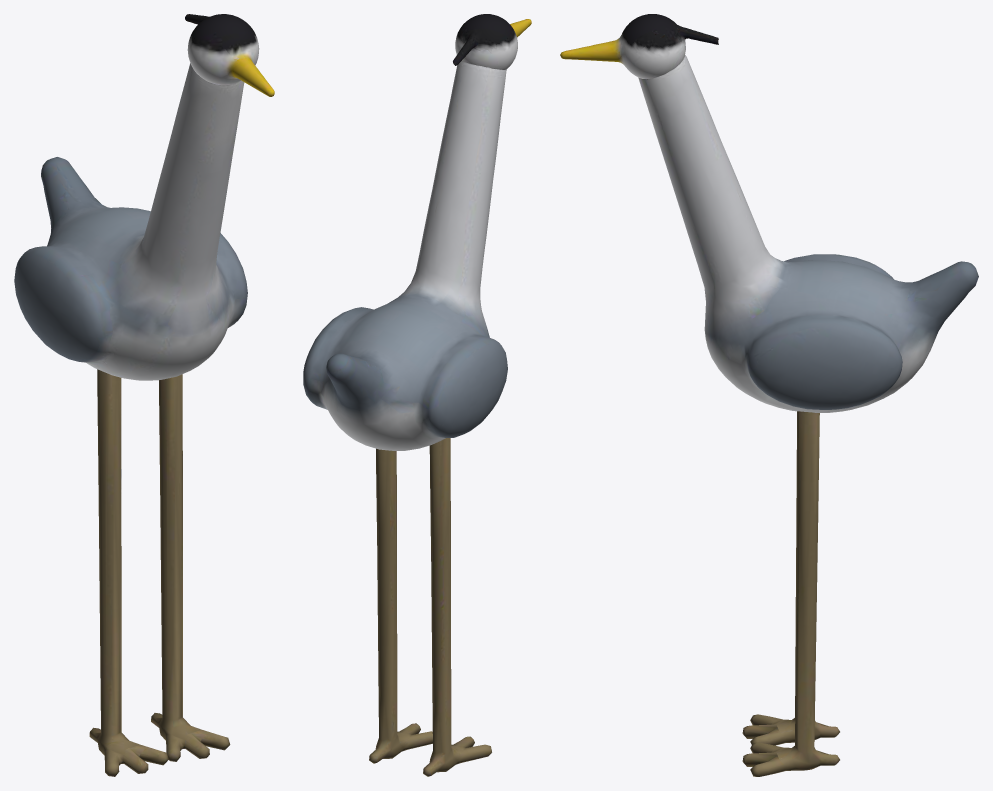
File: animal_grey_heron.glb
3 renders of one model, left to right at view 1: azimuth 30°, elevation 25°; view 2: azimuth 150°, elevation 25°; view 3: azimuth 270°, elevation 25°, orthographic. The views are drawn at different scales.
Visible parts, largest first — view 1: animal_grey_heron, leg0, leg1, head; view 2: animal_grey_heron, leg0, leg1, head; view 3: animal_grey_heron, leg1, head, leg0.
Boxes of the visible parts, bbox=[...] form: animal_grey_heron: bbox=[14, 63, 247, 380]; leg0: bbox=[89, 369, 168, 776]; leg1: bbox=[151, 374, 230, 761]; head: bbox=[185, 14, 274, 96]; animal_grey_heron: bbox=[303, 61, 507, 450]; leg0: bbox=[423, 438, 491, 776]; leg1: bbox=[369, 448, 432, 763]; head: bbox=[453, 14, 531, 69]; animal_grey_heron: bbox=[638, 55, 978, 412]; leg1: bbox=[742, 411, 839, 776]; head: bbox=[560, 14, 718, 78]; leg0: bbox=[742, 411, 839, 745].
Bounding box in the file's own units: 0.1889 × 0.7759 × 0.3985.
1 material, 1 textured.
